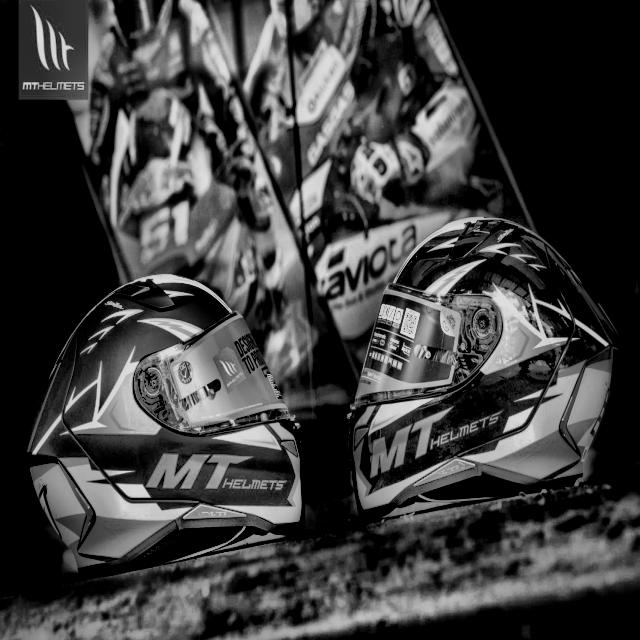Helmet: (24, 252, 303, 595), (344, 212, 620, 544)
